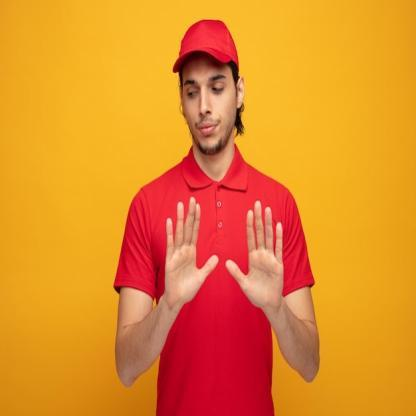stop: (225, 197, 286, 320), (160, 191, 220, 311)
